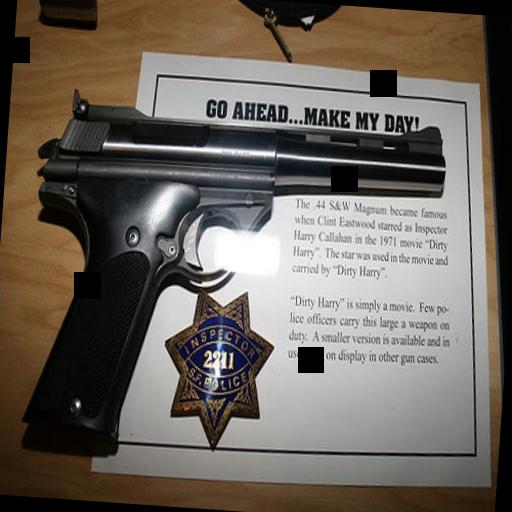Handgun: (14, 82, 451, 476)
